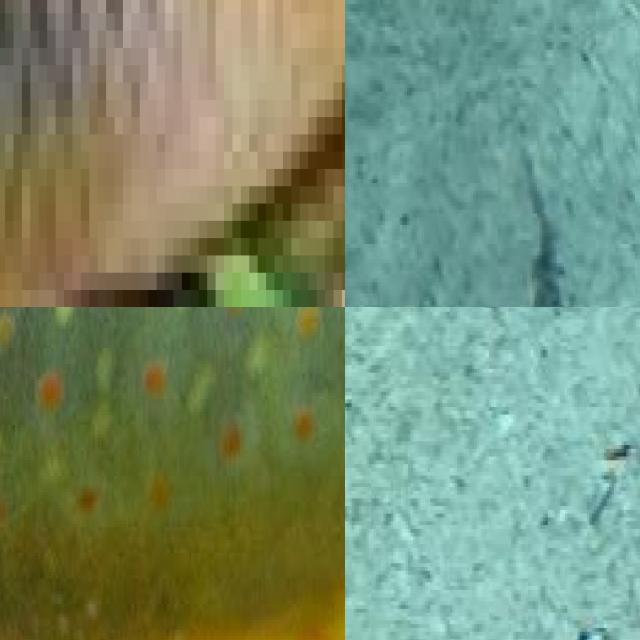fish: (0, 307, 345, 623), (0, 0, 345, 307), (345, 307, 640, 590)
